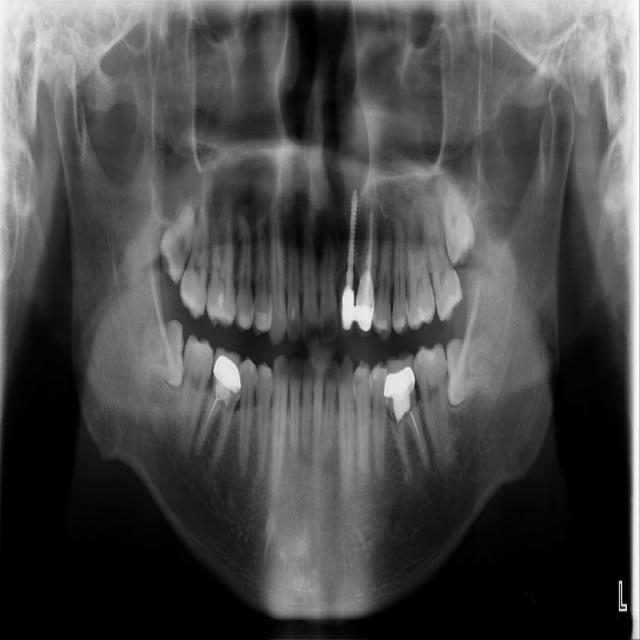3M ESPE Implant: (150, 200, 203, 286)
52: (383, 349, 417, 416), (210, 347, 245, 409), (204, 276, 238, 329), (404, 278, 438, 330), (353, 271, 376, 339), (248, 289, 276, 338), (338, 280, 357, 338), (233, 287, 255, 332), (390, 293, 411, 336), (373, 298, 391, 345), (285, 300, 303, 342)
73: (389, 399, 434, 485), (191, 391, 238, 469), (360, 193, 381, 286), (602, 591, 610, 619)
BioHorizons Implant: (416, 210, 468, 325)
BioLife Implant: (435, 166, 479, 267)
Biomet 3i Implant: (444, 335, 497, 406)
Blue Sky Bio Implant: (414, 344, 449, 457)
Caries: (178, 205, 212, 321)
Implant: (172, 333, 217, 444)
Keystone Dental Implant: (140, 319, 185, 389)
